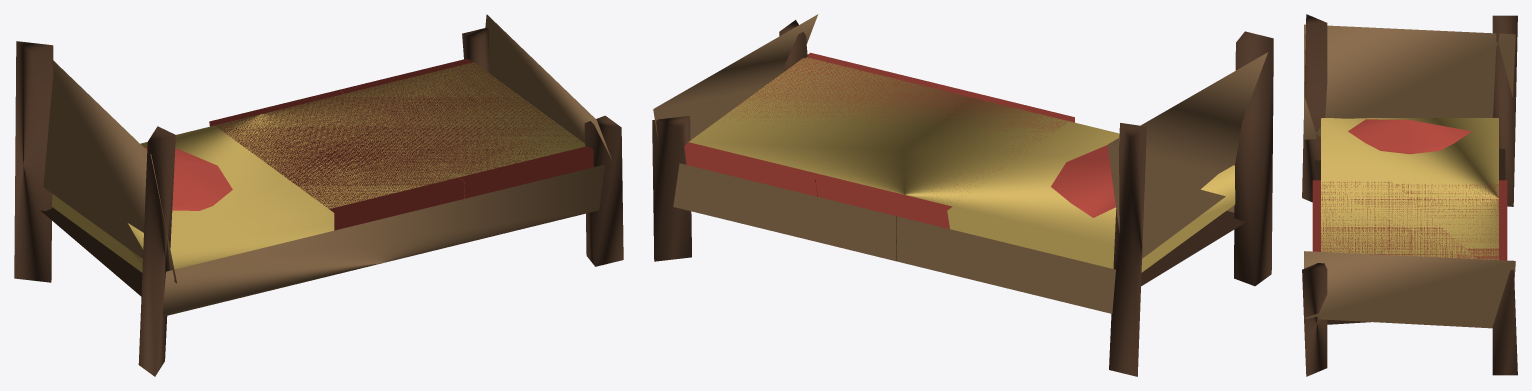
Rendered from bed_simple_lod1.glb.
The picture shows the model from 3 angles, left to right: view 1: azimuth 30°, elevation 25°; view 2: azimuth 150°, elevation 25°; view 3: azimuth 270°, elevation 25°; orthographic projection. The views are drawn at different scales.
Size of the model in its own units: 2.02 by 0.95 by 1.02.
